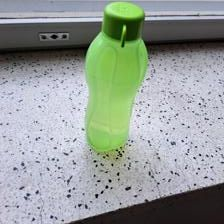bottle: (81, 0, 150, 152)
